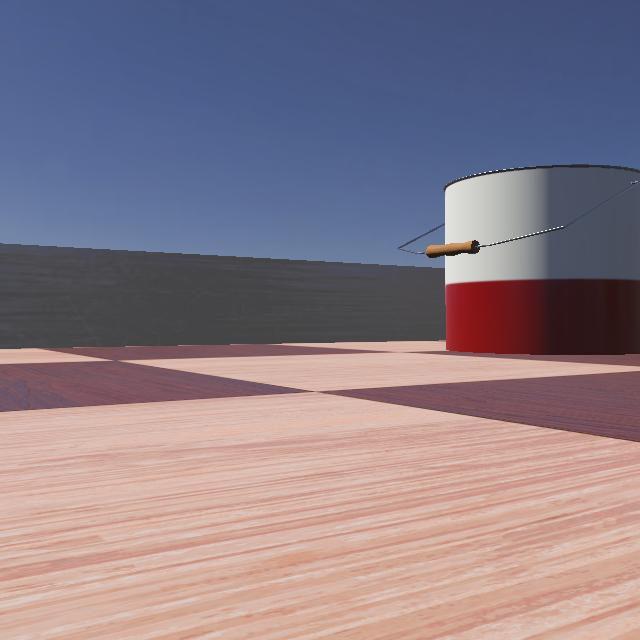paint-bucket: (390, 151, 640, 359)
